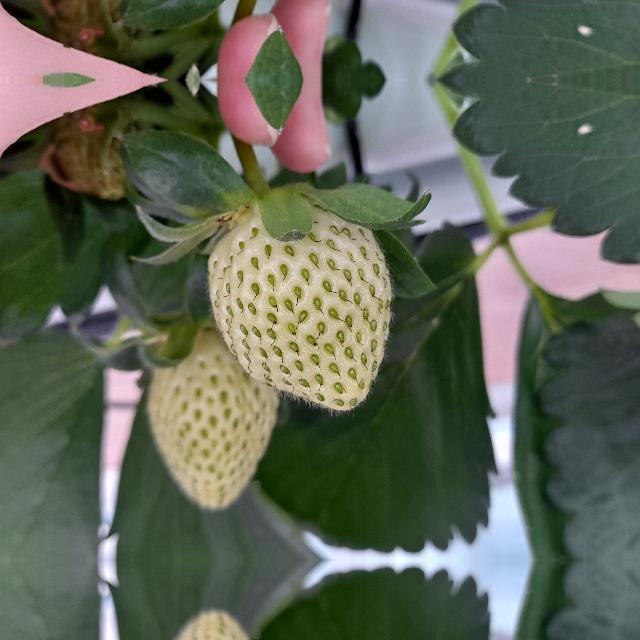Health_25: (207, 196, 397, 417), (136, 278, 280, 510)
